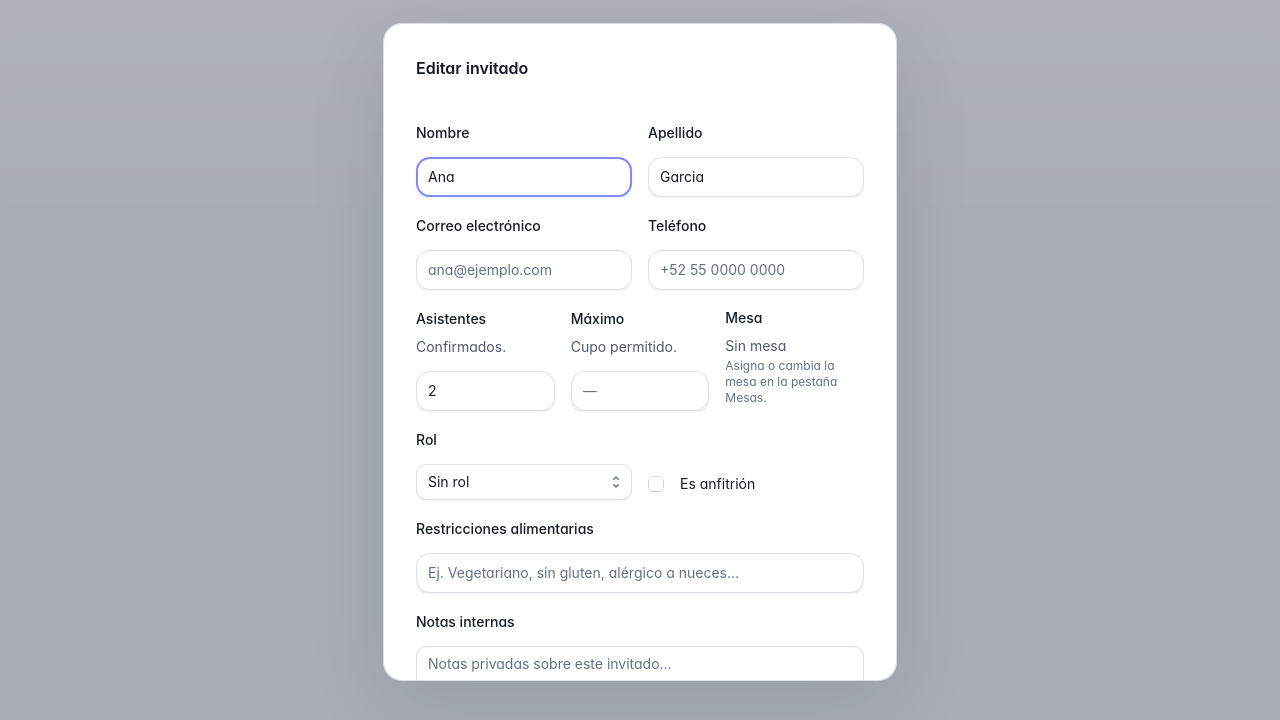
Test case: GuestFormModal › shows the server party-size error on the Asistentes field (400 party_size_exceeds_max_guests)
This screenshot has width=1280, height=720.
Replace the text in the number field labelled "Asistentes" with "3" at (485, 391), box [416,371,555,411]
(page scrolled)
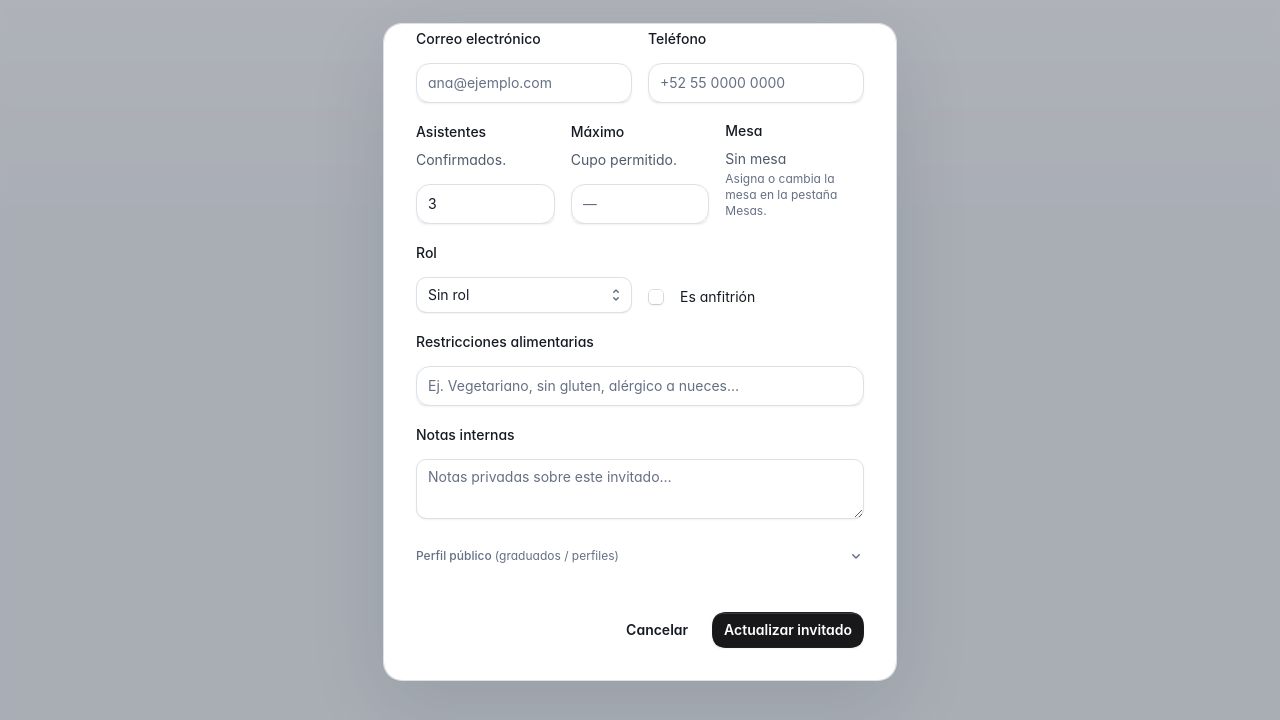
Click the button "Actualizar invitado" at (788, 630), box [712,612,864,648]
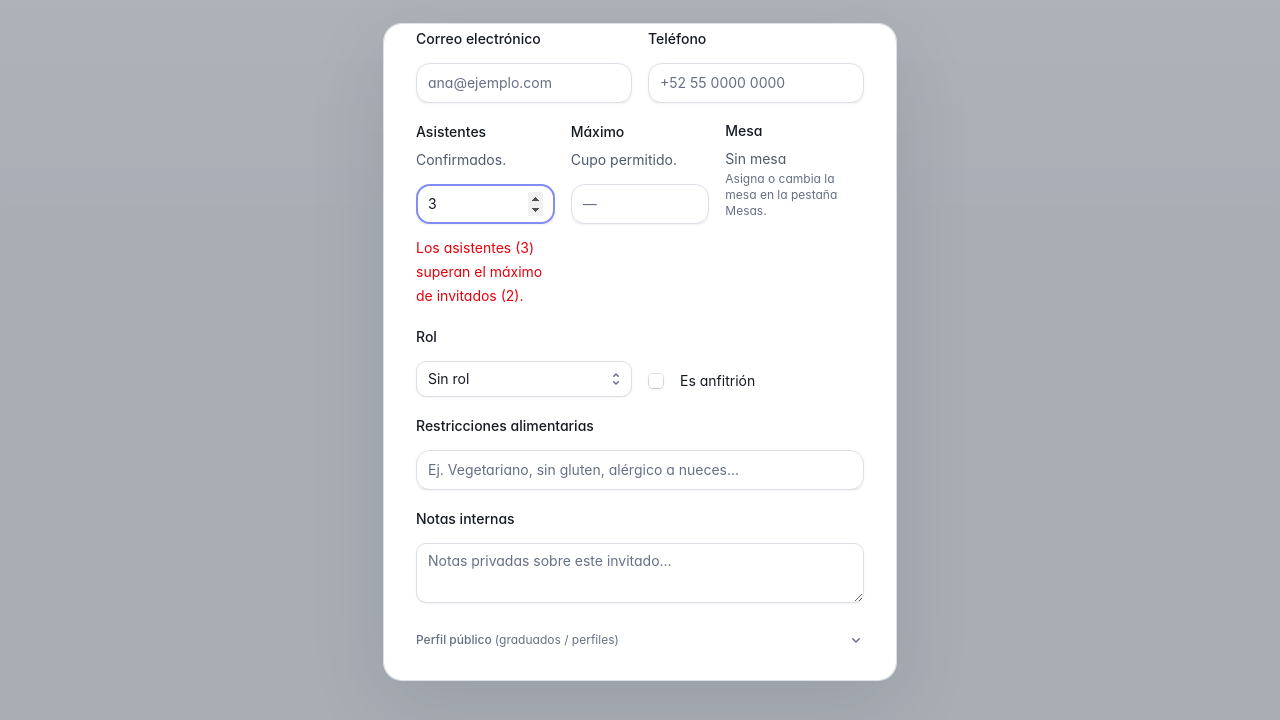
Result: the text "Los asistentes (3) superan el máximo de invitados (2)." is shown at [416,236,555,308]
